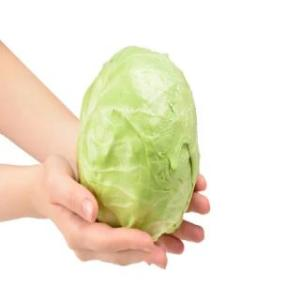cabbage: (76, 44, 200, 246)
